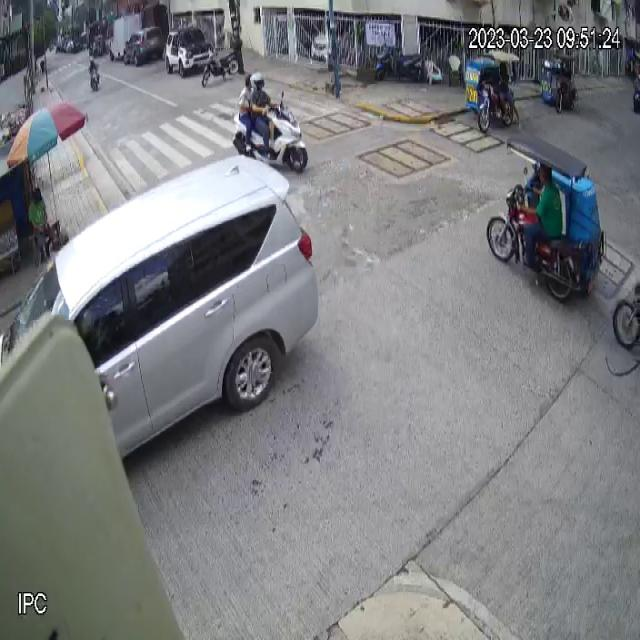Car: (1, 152, 320, 459)
Motorcycle: (233, 89, 309, 174)
Tricycle: (486, 131, 607, 303), (465, 49, 521, 134), (540, 53, 578, 114)
